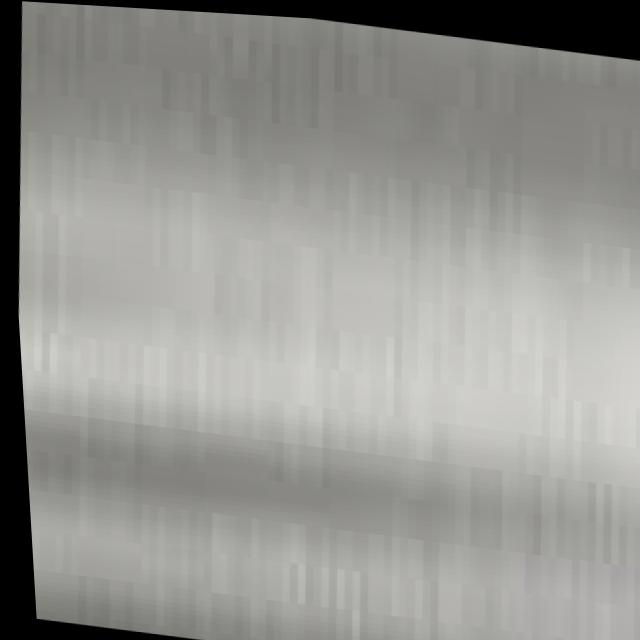metal-plates: (15, 2, 640, 640)
